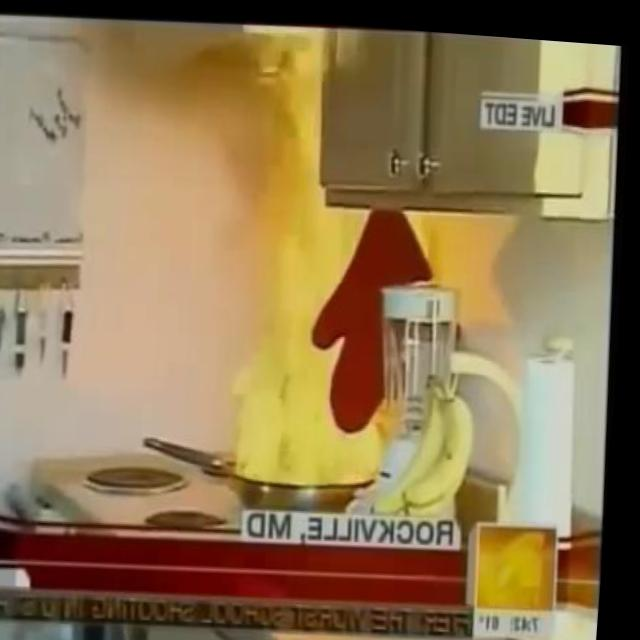fire: (199, 13, 423, 486)
